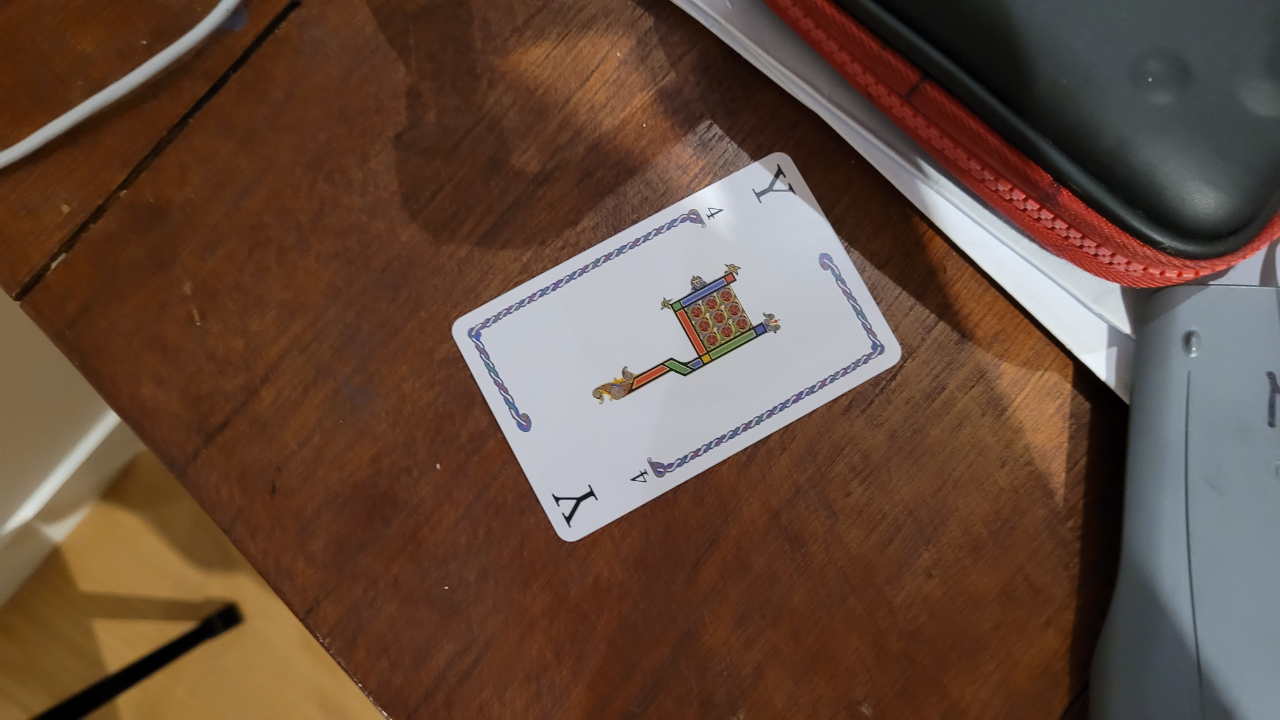quiddler_card: (440, 142, 918, 551)
